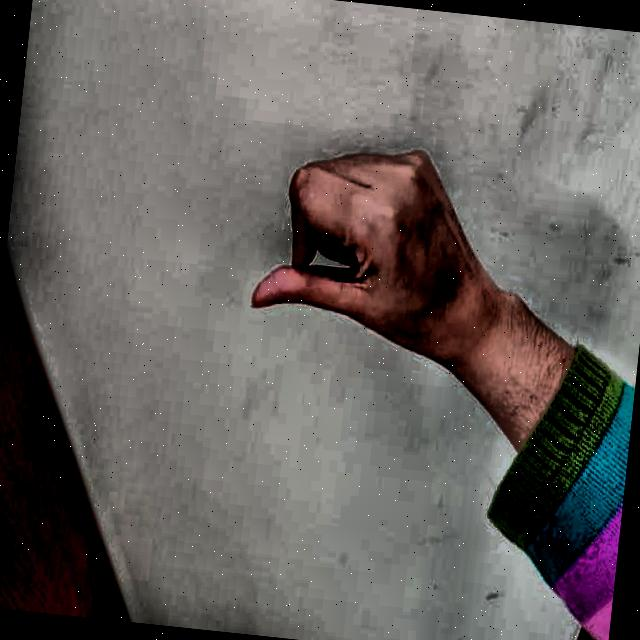Ay: (210, 85, 497, 412)
